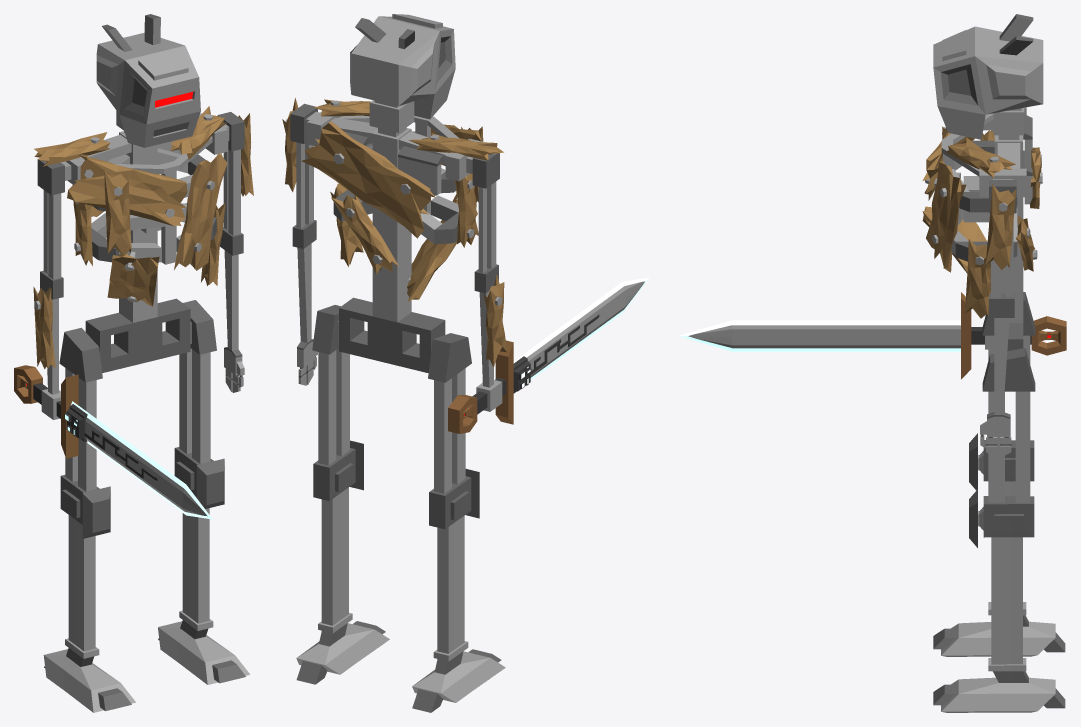
The model's file is SwordRobot.fbx.
3 views of the same model, side by side, from view 1: azimuth 30°, elevation 25°; view 2: azimuth 150°, elevation 25°; view 3: azimuth 270°, elevation 25° (orthographic).
Visible parts, largest first — view 1: LowerLegMesh (×2), SkeletonMesh, Head, UpperLegMesh (×2), Sword, UpperArmMesh (×2), Plank7, LowerArmMesh (×2), Plank1, Splinter12 (×2), Plank8, Splinter11 (+5 smaller); view 2: LowerLegMesh (×2), SkeletonMesh, Head, UpperLegMesh (×2), Plank9, Sword, UpperArmMesh (×2), LowerArmMesh (×2), Splinter12 (×2), Splinter10, Plank8, Splinter7 (+4 smaller); view 3: LowerLegMesh (×2), Head, Sword, SkeletonMesh, UpperLegMesh (×2), LowerArmMesh, Plank1, Splinter12, Splinter8, Splinter6, UpperArmMesh, Plank8 (+2 smaller).
Part boxes in pixels (box(x1,y1,x2,y2)): LowerLegMesh (×2): box(43, 447, 249, 712); SkeletonMesh: box(61, 113, 229, 372); Head: box(96, 14, 200, 147); UpperLegMesh (×2): box(59, 300, 216, 491); Sword: box(14, 365, 212, 519); UpperArmMesh (×2): box(37, 112, 244, 279); Plank7: box(67, 154, 187, 226); LowerArmMesh (×2): box(40, 227, 244, 419); Plank1: box(174, 153, 227, 270); Splinter12 (×2): box(33, 113, 253, 369); Plank8: box(107, 254, 159, 306); Splinter11: box(104, 170, 131, 256); LowerLegMesh (×2): box(296, 440, 505, 712); SkeletonMesh: box(305, 111, 482, 373); Head: box(350, 14, 455, 132); UpperLegMesh (×2): box(312, 305, 471, 493); Plank9: box(301, 121, 435, 238); Sword: box(448, 277, 649, 433); UpperArmMesh (×2): box(290, 103, 499, 272); LowerArmMesh (×2): box(292, 220, 502, 411); Splinter12 (×2): box(282, 98, 506, 367); Splinter10: box(331, 195, 398, 274); Plank8: box(407, 194, 477, 302); Splinter7: box(408, 132, 503, 160); LowerLegMesh (×2): box(933, 433, 1065, 712); Head: box(933, 14, 1043, 139); Sword: box(678, 292, 1066, 379); SkeletonMesh: box(941, 107, 1032, 351); UpperLegMesh (×2): box(982, 292, 1035, 502); LowerArmMesh: box(980, 293, 1014, 457); Plank1: box(926, 161, 966, 272); Splinter12: box(985, 184, 1016, 269); Splinter8: box(964, 239, 990, 318); Splinter6: box(945, 137, 1015, 177); UpperArmMesh: box(989, 180, 1016, 298); Plank8: box(922, 205, 990, 293).
Bounding box in the file's own units: 1.96 × 5.74 × 3.11.
